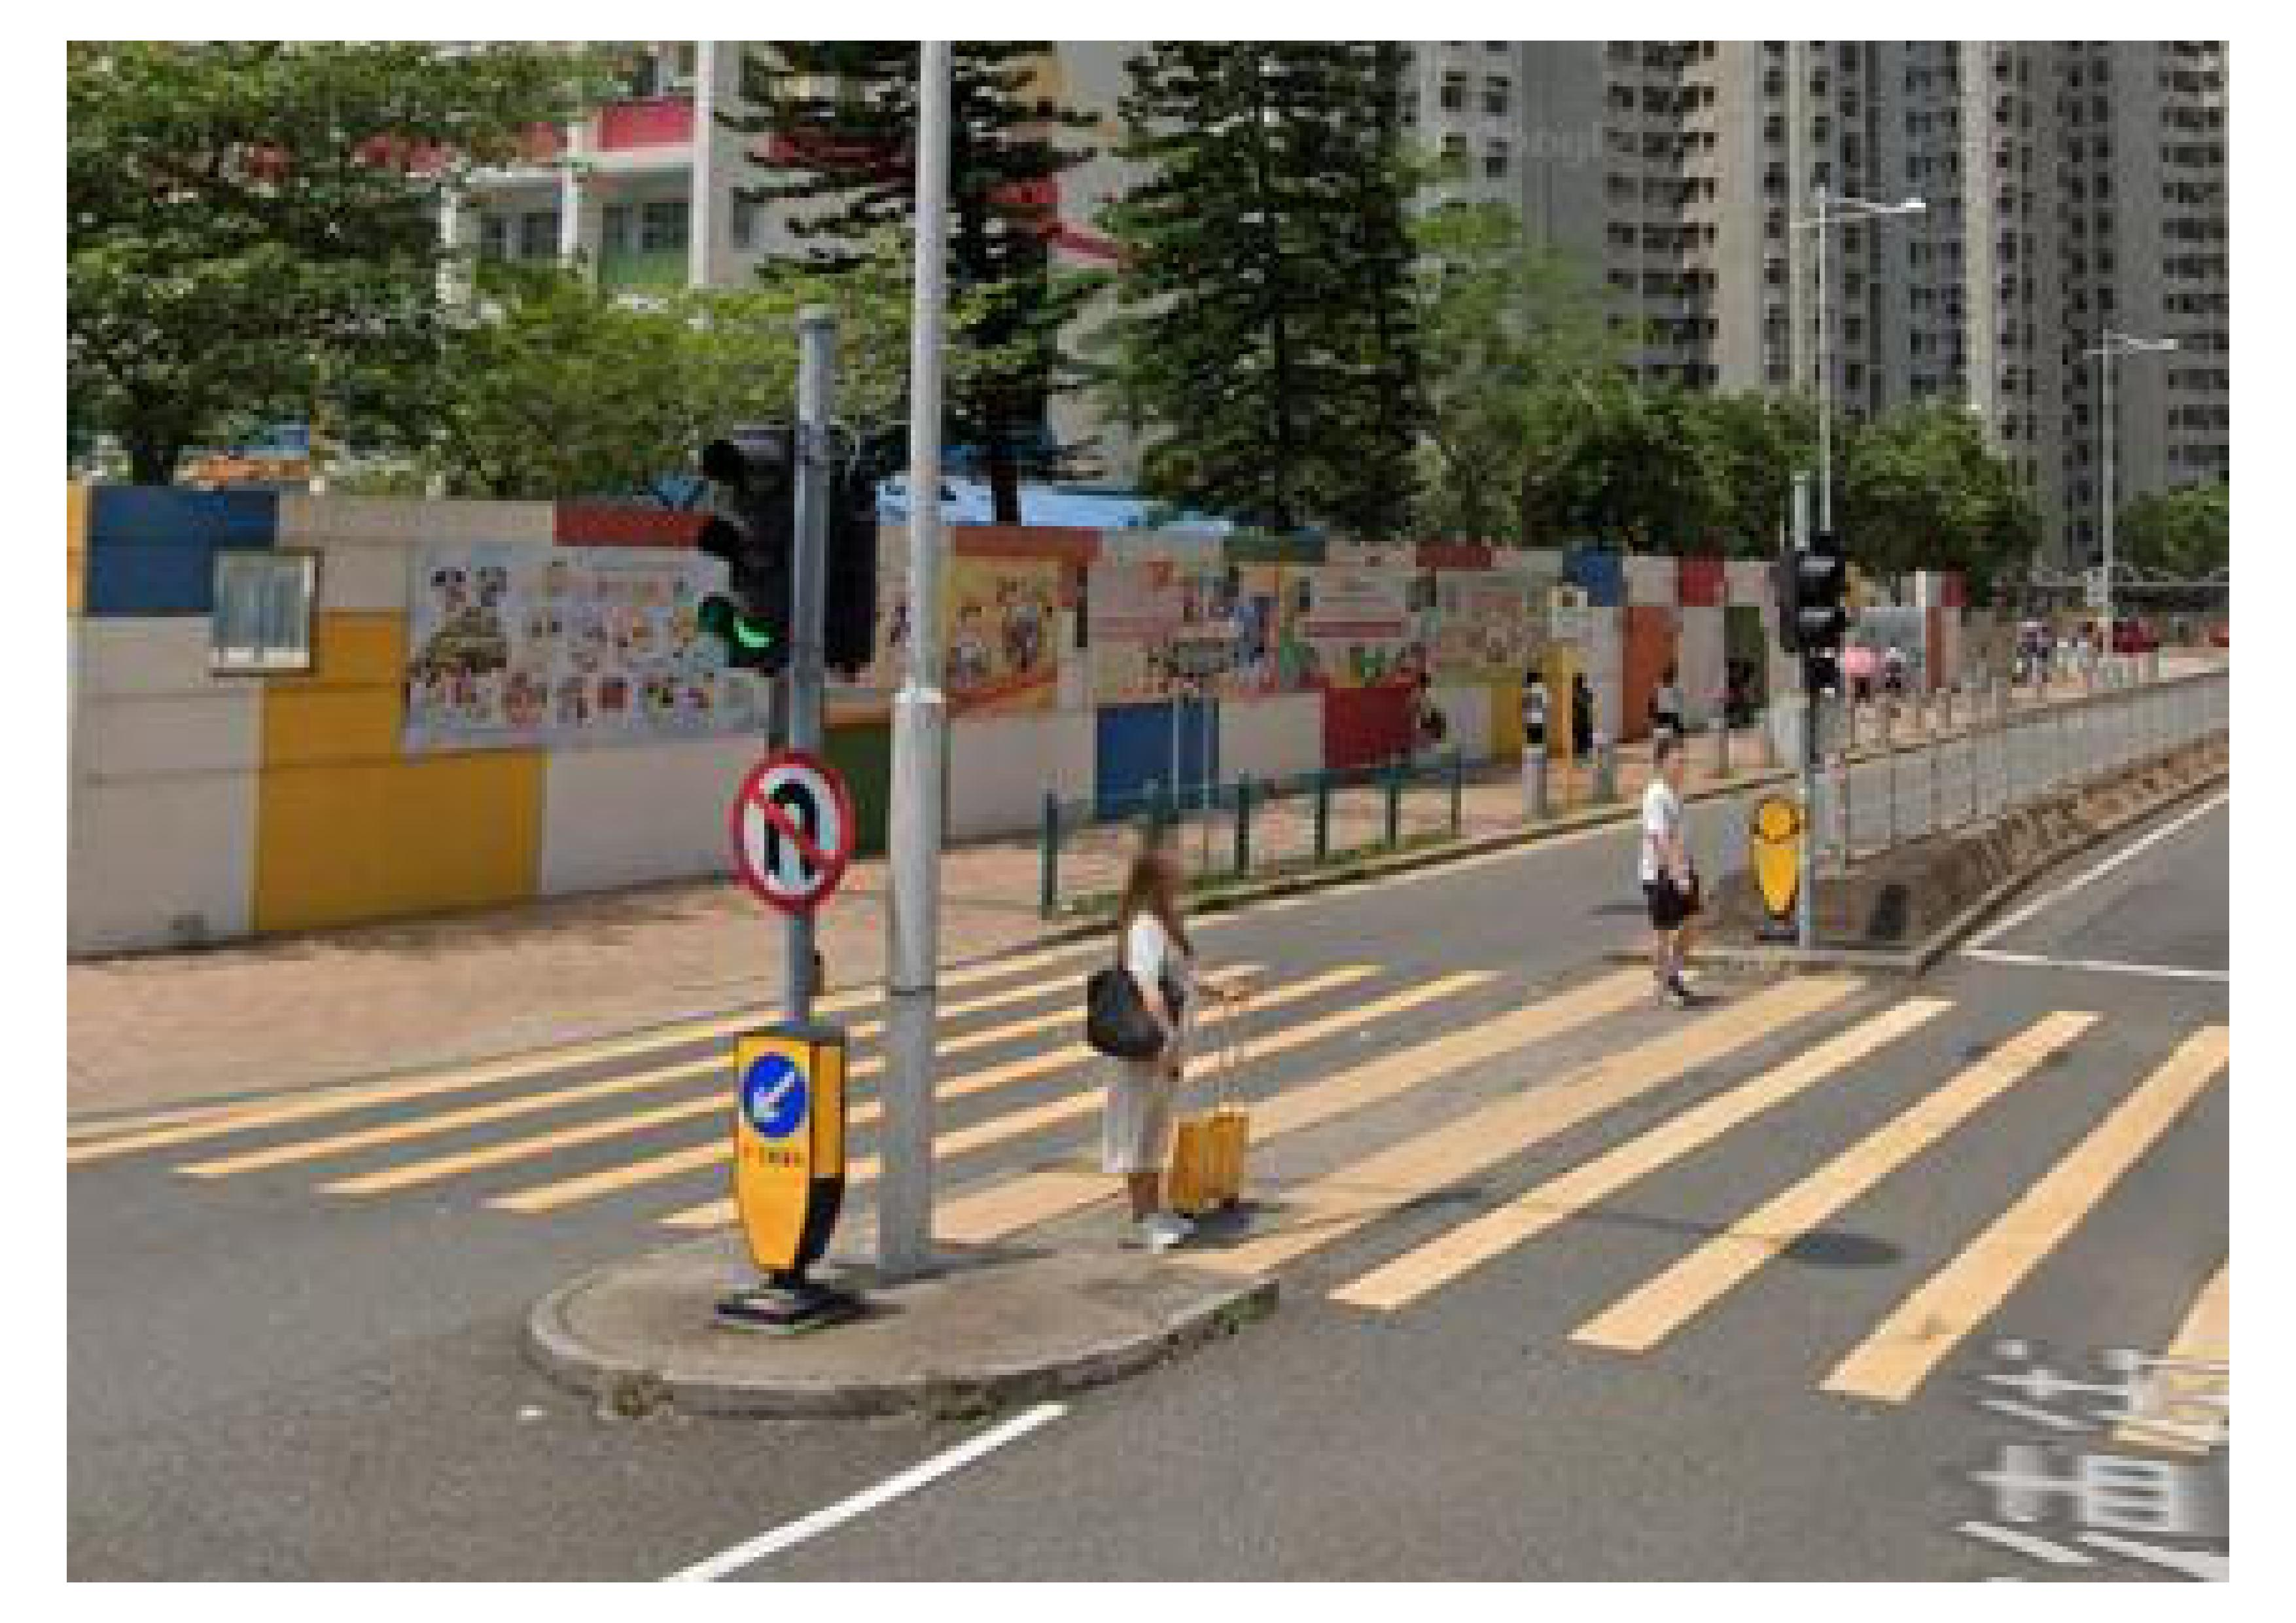No Uturn: (716, 743, 857, 912)
